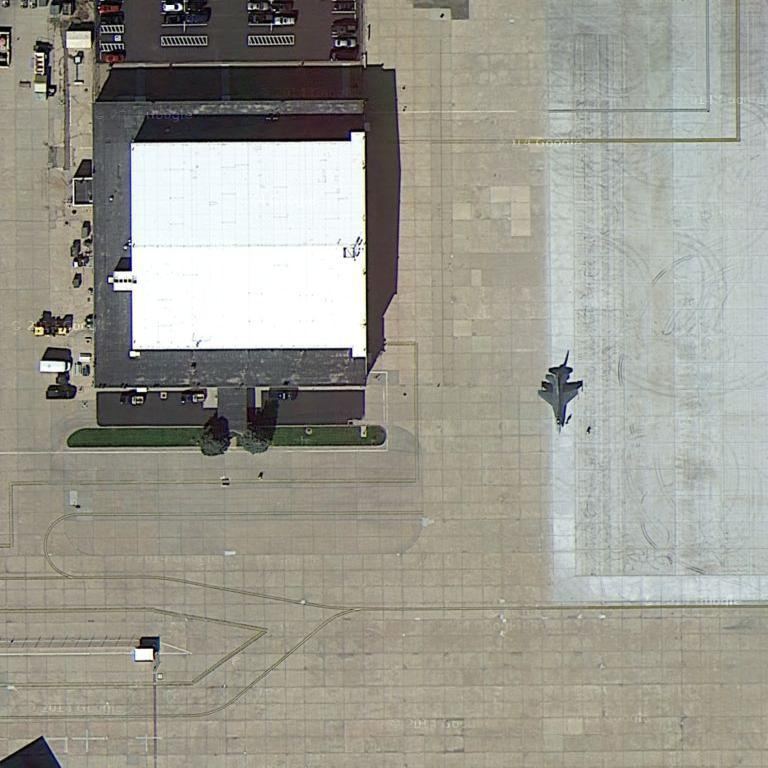F-16: (534, 360, 586, 433)
